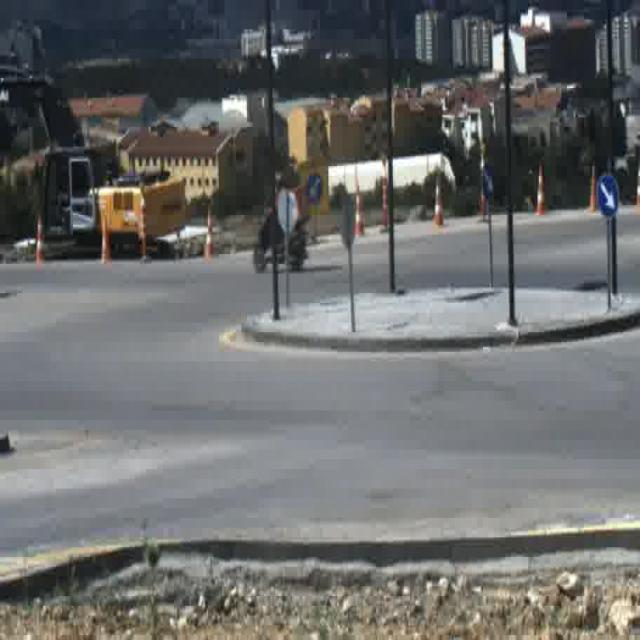Motorcycle: (252, 167, 308, 271)
